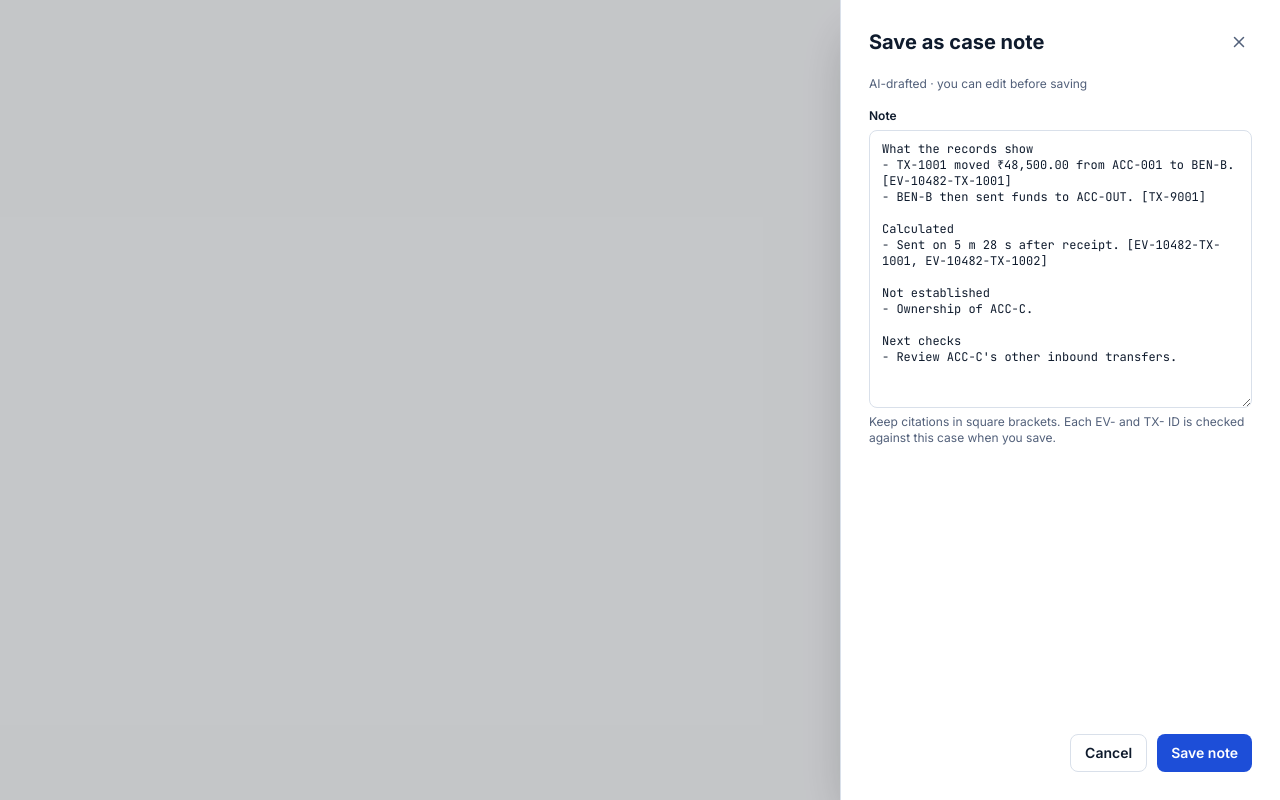
Test: NoteEditorDrawer › citation error maps to body field
Click the button "Save note" at [1205, 753], box [1157, 734, 1252, 772]
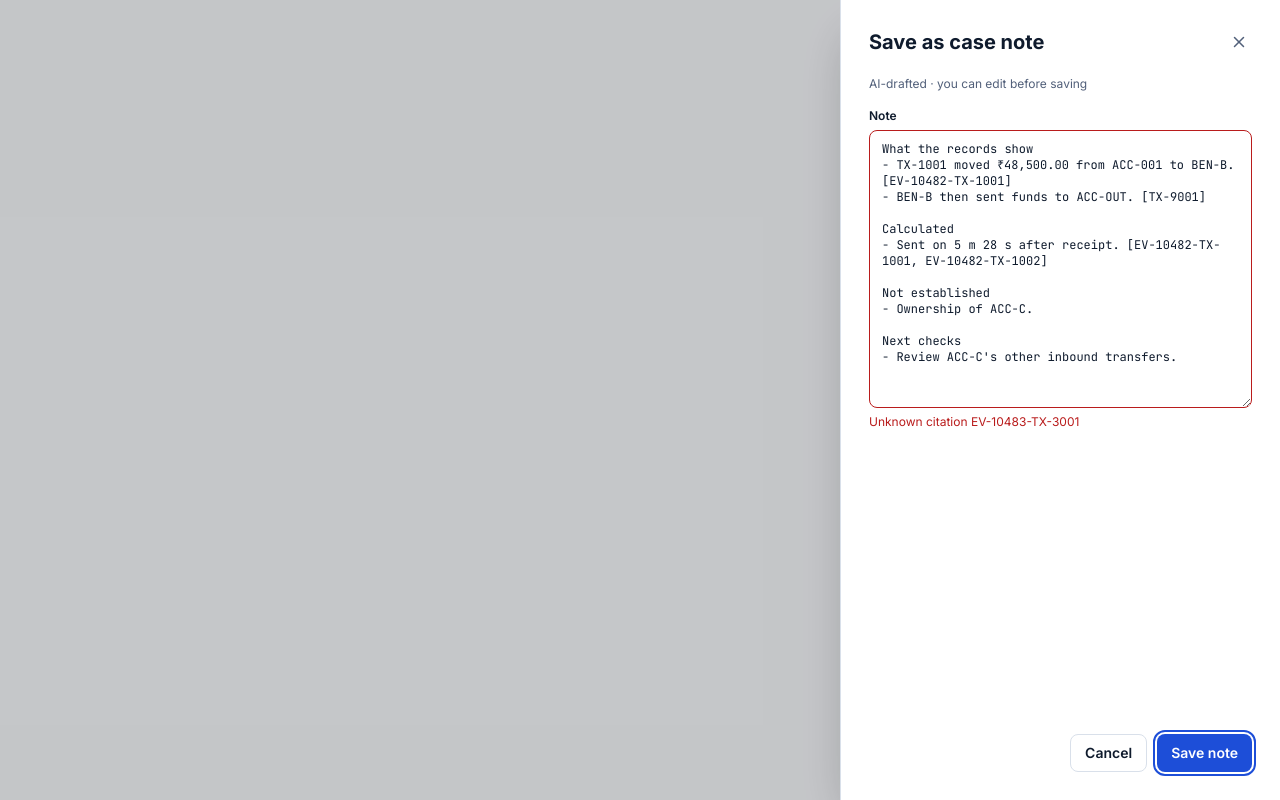
Result: the text "Unknown citation EV-10483-TX-3001" is shown at [869, 414, 1079, 429]
